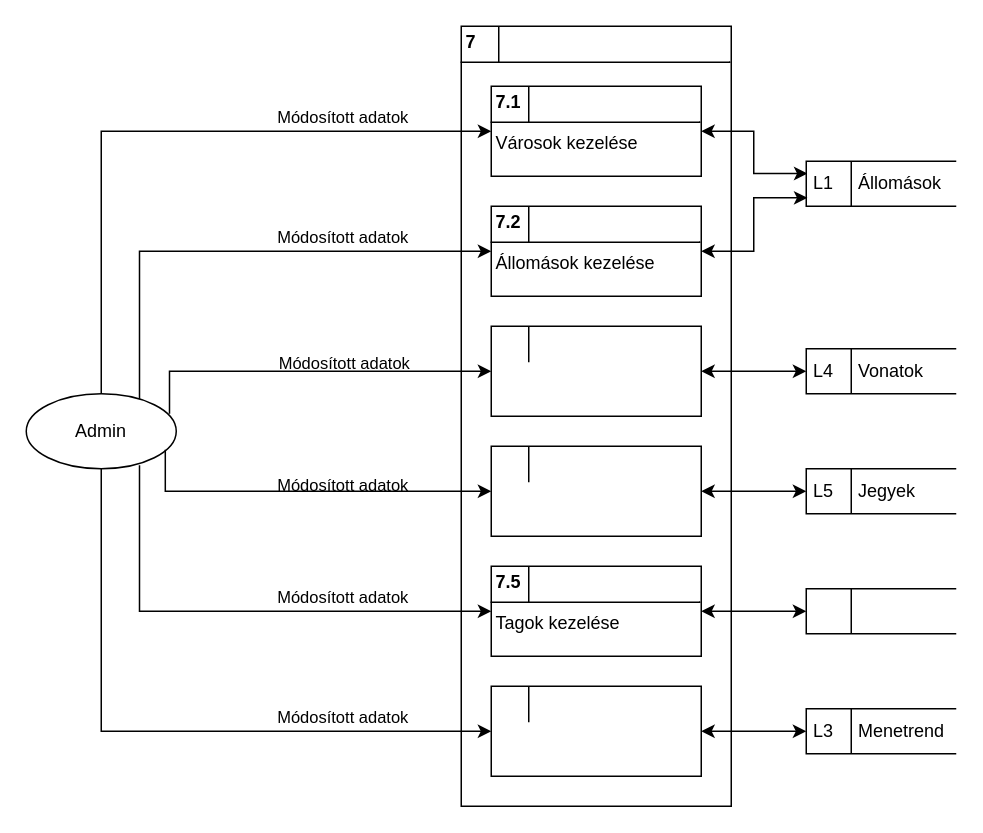
The diagram is 983 pixels wide and 833 high, and some of its shapes have lost their labels. Here are the shapes that lost their labels. From the top down, the centre of each, then its label:
point 595,370: 7.3 Vonatok kezelése
point 595,490: 7.4 Jegyek kezelése
point 880,610: L2 Tagok
point 595,730: 7.6 Menetrendek kezelése
